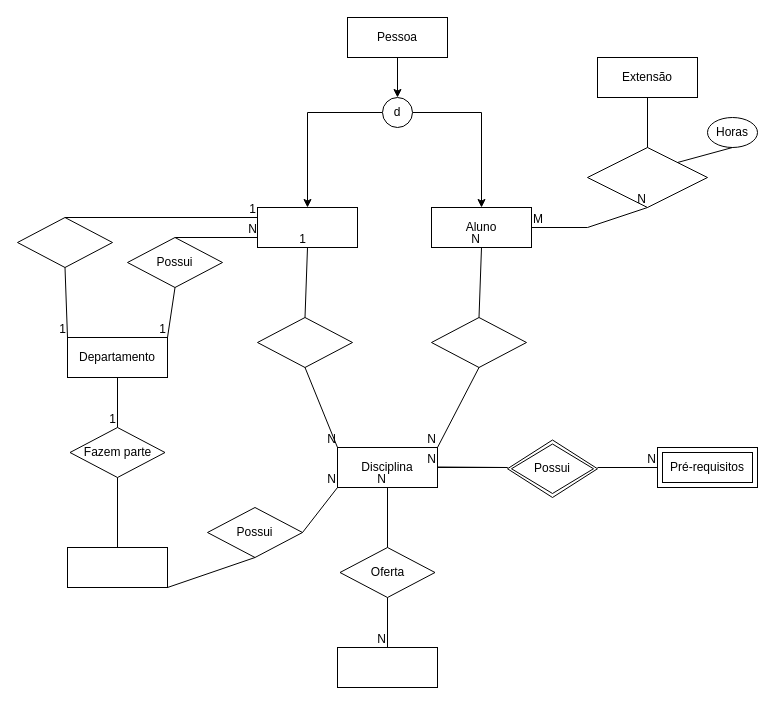
This 775x705 diagram has some shape labels left out. Each missing label, with the centre of its shape:
Coordena: pixel 64 242
Curso: pixel 117 567
Matriculado: pixel 478 342
Ministra: pixel 304 342
Período: pixel 387 667
Professor: pixel 307 227
Realiza: pixel 647 177
